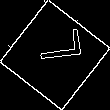L_W: (28, 37, 82, 73)
